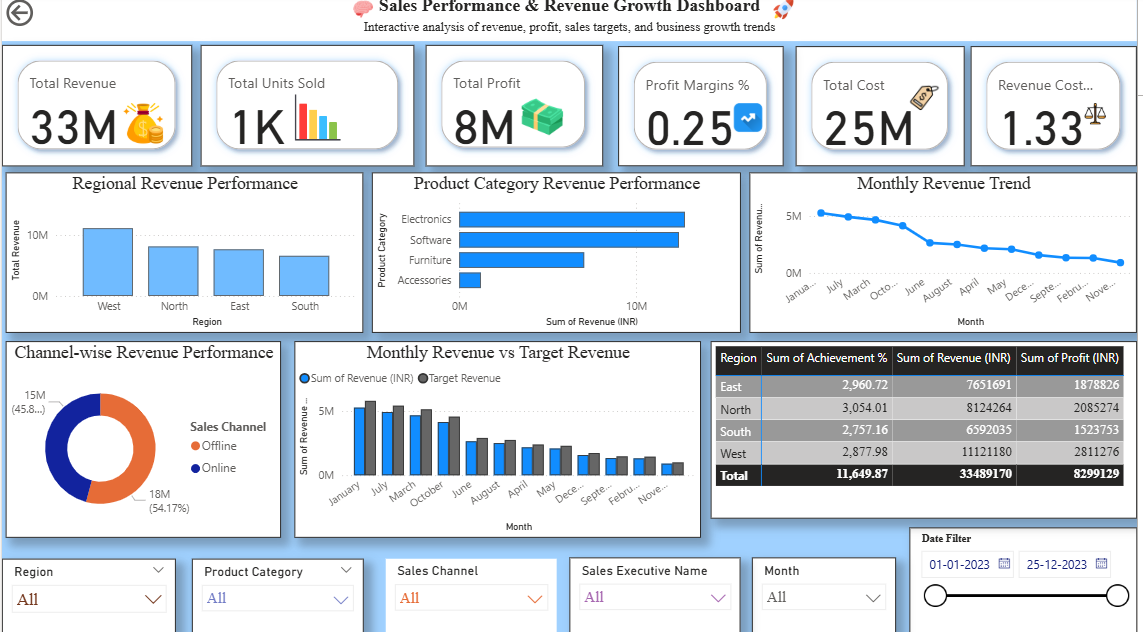

This screenshot's page, from the dashboard's own definition file:
{"tool":"powerbi","page":{"name":"DASHBOARD","canvas":[1280,720],"ordinal":0},"visuals":[{"type":"textbox","title":"Sales Performance & Revenue Growth Dashboard","box":[0,0,1280.3,52.2],"z":0},{"type":"image","box":[272.6,0,271.1,31.9],"z":1000},{"type":"image","box":[778.6,0,205.9,31.9],"z":2000},{"type":"actionButton","box":[0,0,100,40],"z":11000},{"type":"slicer","fields":{"Values":["Sales Data.Date"]},"box":[1023.7,600.7,256.6,119.9],"z":11001},{"type":"slicer","fields":{"Values":["Sales Data.Region"]},"box":[0,635.3,196.2,85.1],"z":11002},{"type":"slicer","fields":{"Values":["Sales Data.Product Category"]},"box":[214.1,635.3,193.5,85.1],"z":11003},{"type":"slicer","fields":{"Values":["Sales Data.Month"]},"box":[846,634.5,162.2,86],"z":11004},{"type":"slicer","fields":{"Values":["Sales Data.Sales Executive Name"]},"box":[640.1,634.5,193.2,86],"z":11005},{"type":"slicer","fields":{"Values":["Sales Data.Sales Channel"]},"box":[432.9,635.9,193.2,84.6],"z":11006},{"type":"cardVisual","fields":{"Data":["Sales Data.Total Revenue"]},"box":[0,56.4,214.3,136.8],"z":11007},{"type":"cardVisual","fields":{"Data":["Sales Data.Total Cost"]},"box":[895.4,57.8,190.4,135.4],"z":11008},{"type":"cardVisual","fields":{"Data":["Sales Data.Total Units Sold"]},"box":[224.2,56.4,241.1,136.8],"z":11009},{"type":"cardVisual","fields":{"Data":["Sales Data.Profit Margins %"]},"box":[695.1,57.8,186.1,135.4],"z":11010},{"type":"cardVisual","fields":{"Data":["Sales Data.Total Profit"]},"box":[478,56.4,200.2,136.8],"z":11011},{"type":"image","box":[118.4,117,81.8,56.4],"z":11012},{"type":"image","box":[304.6,105.8,102.9,64.9],"z":11013},{"type":"image","box":[561.2,105.8,97.3,63.5],"z":11014},{"type":"image","box":[816.4,117,50.8,42.3],"z":11015},{"type":"image","box":[999.7,94.5,81.8,43.7],"z":11016},{"type":"cardVisual","fields":{"Data":["Sales Data.Revenue Cost Ratio"]},"box":[1092.8,57.8,187.5,135.4],"z":11017},{"type":"image","box":[1208.4,117,49.4,33.8],"z":11018},{"type":"columnChart","title":"Regional Revenue Performance","fields":{"Category":["Sales Data.Region"],"Y":["Sales Data.Total Revenue"]},"box":[4.2,200.2,403.3,180.5],"z":11019},{"type":"barChart","title":"Product Category Revenue Performance","fields":{"Y":["Sum(Sales Data.Revenue (INR))"],"Category":["Sales Data.Product Category"]},"box":[417.4,200.2,416,180.5],"z":11020},{"type":"lineChart","title":"Monthly Revenue Trend","fields":{"Category":["Sales Data.Month"],"Y":["Sum(Sales Data.Revenue (INR))"]},"box":[843.2,200.2,437.1,180.5],"z":11021},{"type":"donutChart","title":"Channel-wise Revenue Performance","fields":{"Category":["Sales Data.Sales Channel"],"Y":["Sum(Sales Data.Revenue (INR))"]},"box":[4.2,390.6,310.2,221.4],"z":11022},{"type":"clusteredColumnChart","title":"Monthly Revenue vs Target Revenue","fields":{"Category":["Sales Data.Month"],"Y":["Sum(Sales Data.Revenue (INR))","Sales Data.Target Revenue"]},"box":[329.9,390.6,458.3,221.4],"z":11023},{"type":"pivotTable","fields":{"Rows":["Sales Data.Region"],"Values":["Sum(Sales Data.Achievement %)","Sum(Sales Data.Revenue (INR))","Sum(Sales Data.Profit (INR))"]},"box":[799.5,390.6,480.8,200.2],"z":11024}]}

Visuals, with their boxes in screenshot pixels (x1, y1, x2, y2), scaled from the page's 1280x720 canvas onto the 1143x632 screenshot:
"Sales Performance & Revenue Growth Dashboard" textbox: {"left": 0, "top": 0, "right": 1142, "bottom": 46}
image: {"left": 243, "top": 0, "right": 486, "bottom": 28}
image: {"left": 695, "top": 0, "right": 879, "bottom": 28}
actionButton: {"left": 0, "top": 0, "right": 89, "bottom": 35}
slicer - Sales Data.Date: {"left": 914, "top": 527, "right": 1142, "bottom": 631}
slicer - Sales Data.Region: {"left": 0, "top": 558, "right": 175, "bottom": 631}
slicer - Sales Data.Product Category: {"left": 191, "top": 558, "right": 364, "bottom": 631}
slicer - Sales Data.Month: {"left": 755, "top": 557, "right": 900, "bottom": 631}
slicer - Sales Data.Sales Executive Name: {"left": 572, "top": 557, "right": 744, "bottom": 631}
slicer - Sales Data.Sales Channel: {"left": 387, "top": 558, "right": 559, "bottom": 631}
cardVisual - Sales Data.Total Revenue: {"left": 0, "top": 50, "right": 191, "bottom": 170}
cardVisual - Sales Data.Total Cost: {"left": 800, "top": 51, "right": 970, "bottom": 170}
cardVisual - Sales Data.Total Units Sold: {"left": 200, "top": 50, "right": 415, "bottom": 170}
cardVisual - Sales Data.Profit Margins %: {"left": 621, "top": 51, "right": 787, "bottom": 170}
cardVisual - Sales Data.Total Profit: {"left": 427, "top": 50, "right": 606, "bottom": 170}
image: {"left": 106, "top": 103, "right": 179, "bottom": 152}
image: {"left": 272, "top": 93, "right": 364, "bottom": 150}
image: {"left": 501, "top": 93, "right": 588, "bottom": 149}
image: {"left": 729, "top": 103, "right": 774, "bottom": 140}
image: {"left": 893, "top": 83, "right": 966, "bottom": 121}
cardVisual - Sales Data.Revenue Cost Ratio: {"left": 976, "top": 51, "right": 1142, "bottom": 170}
image: {"left": 1079, "top": 103, "right": 1123, "bottom": 132}
"Regional Revenue Performance" columnChart: {"left": 4, "top": 176, "right": 364, "bottom": 334}
"Product Category Revenue Performance" barChart: {"left": 373, "top": 176, "right": 744, "bottom": 334}
"Monthly Revenue Trend" lineChart: {"left": 753, "top": 176, "right": 1142, "bottom": 334}
"Channel-wise Revenue Performance" donutChart: {"left": 4, "top": 343, "right": 281, "bottom": 537}
"Monthly Revenue vs Target Revenue" clusteredColumnChart: {"left": 295, "top": 343, "right": 704, "bottom": 537}
pivotTable - Sales Data.Region x Sum(Sales Data.Achievement %): {"left": 714, "top": 343, "right": 1142, "bottom": 519}
